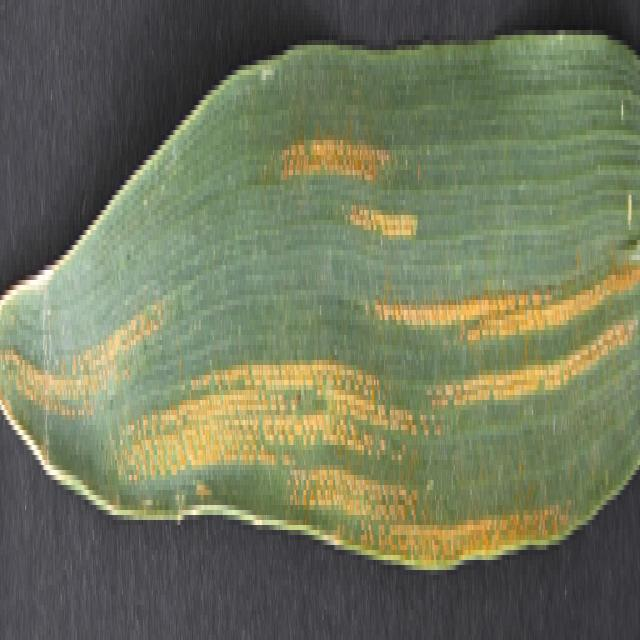leaf rust: (0, 145, 640, 570)
